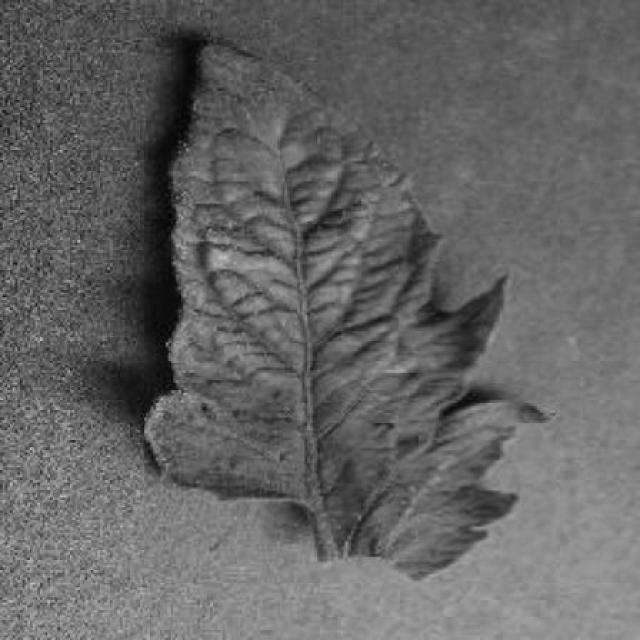Mosaic Virus: (145, 38, 556, 582)
